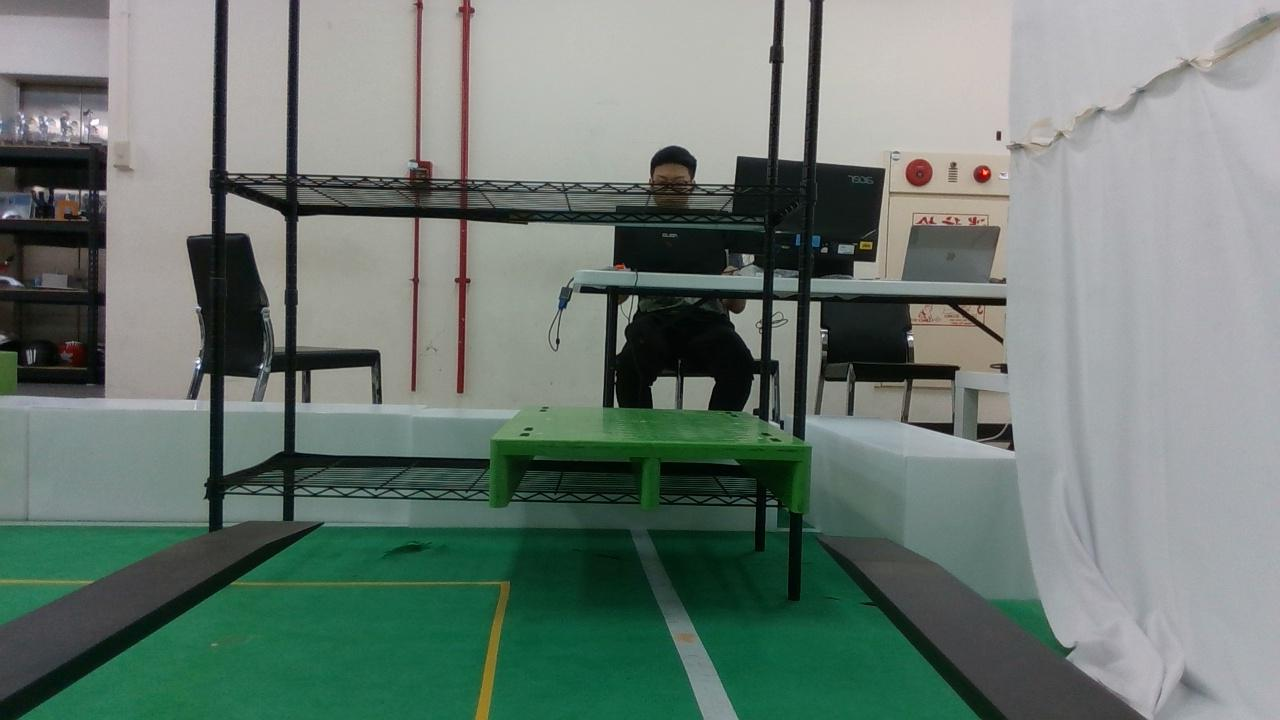Pallet: (487, 434, 814, 514)
